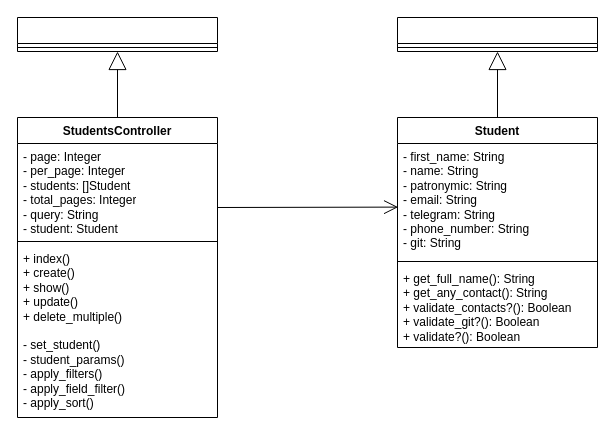
Some shapes in this 615 by 438 pixel diagram are drawn without their labels. The centre of each missing label's shape, as x and y in pixels:
"ApplicationController" belongs at point (117, 34).
"ApplicationRecord" belongs at point (497, 34).
